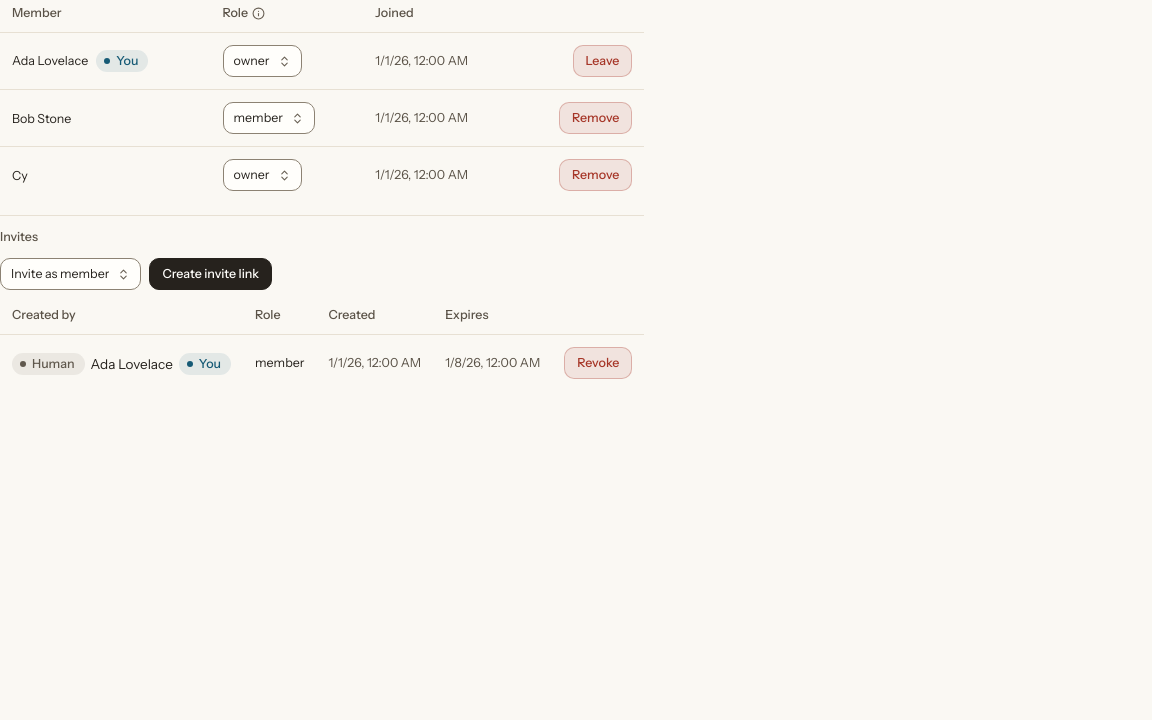
Scenario: an owner › is told in the API's words that the last owner cannot be demoted, when the other owner left since the list was read
The width and height of the screenshot is (1152, 720).
Click the button named "Role of Ada Lovelace".
click(262, 61)  # box [222, 45, 302, 77]
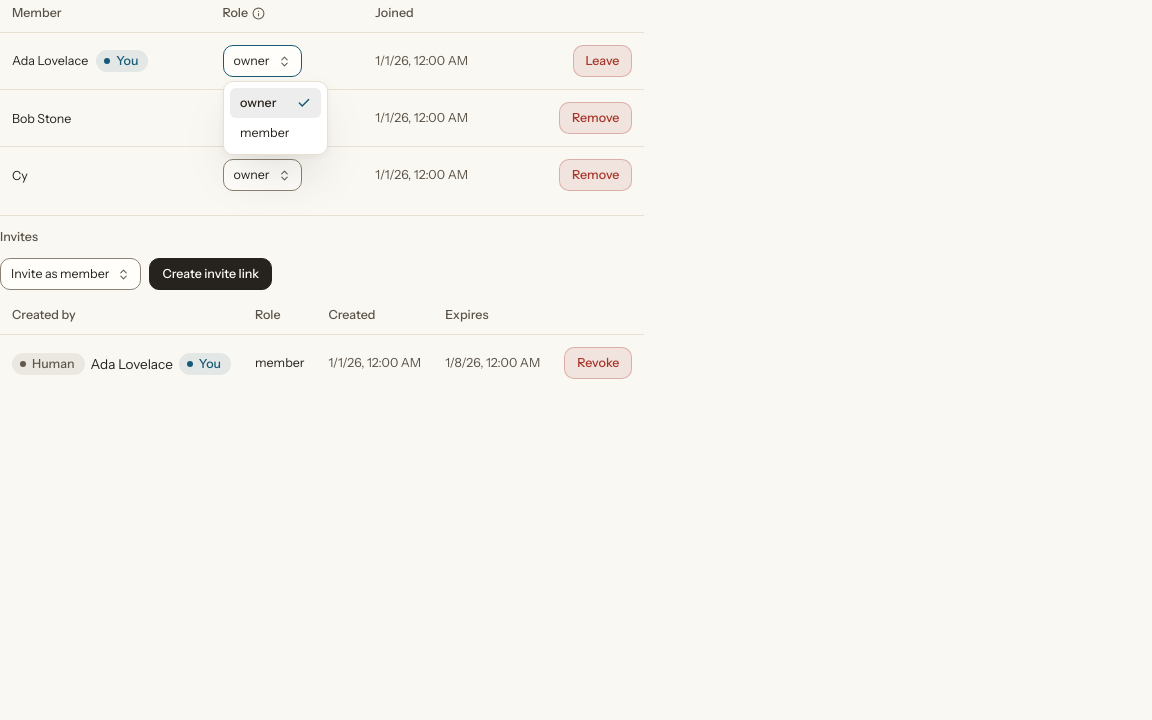
Click the option "member".
click(265, 132)  # box [240, 125, 289, 140]
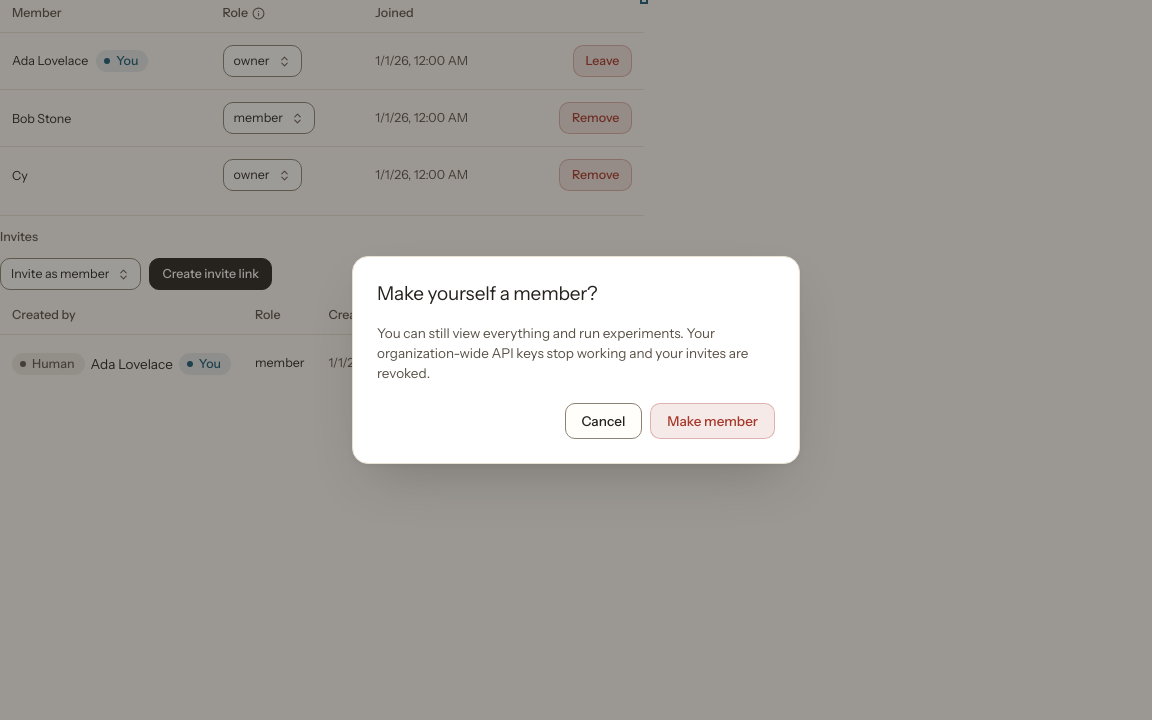
expect the heading "Make yourself a member?" is shown: met, box [377, 282, 597, 305]
Click the button "Make member".
click(713, 421)  # box [650, 403, 775, 439]
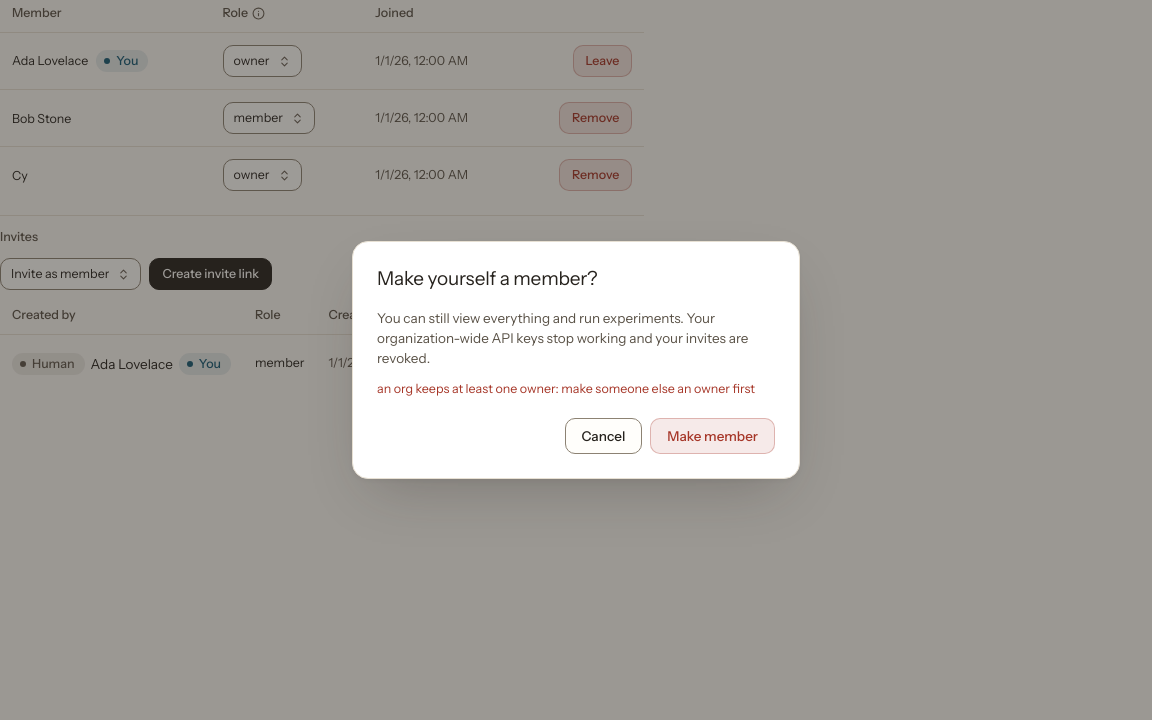
expect the button named "Role of Ada Lovelace" reads "owner": met, box [222, 45, 302, 77]
expect the text "an org keeps at least one owner: make someone else an owner first" is shown: met, box [377, 380, 775, 398]
